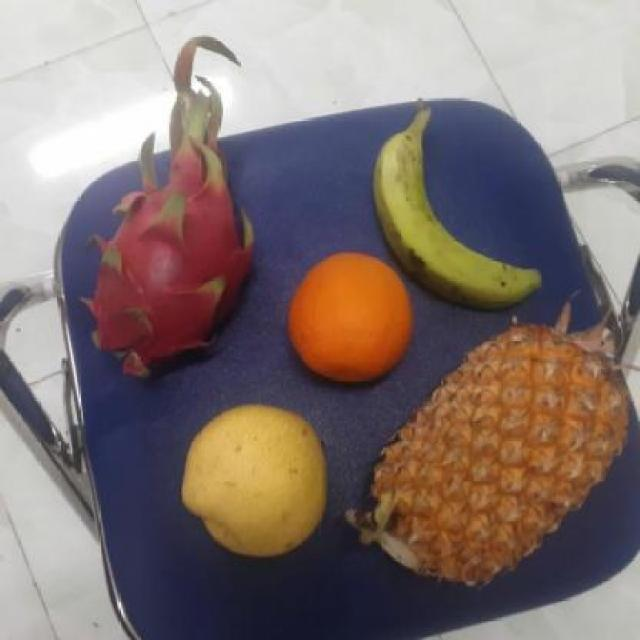banana: (374, 108, 545, 312)
dragon fruit: (76, 141, 267, 381)
oren: (280, 248, 417, 385)
pear: (181, 403, 335, 555)
pineapple: (358, 329, 637, 592)
